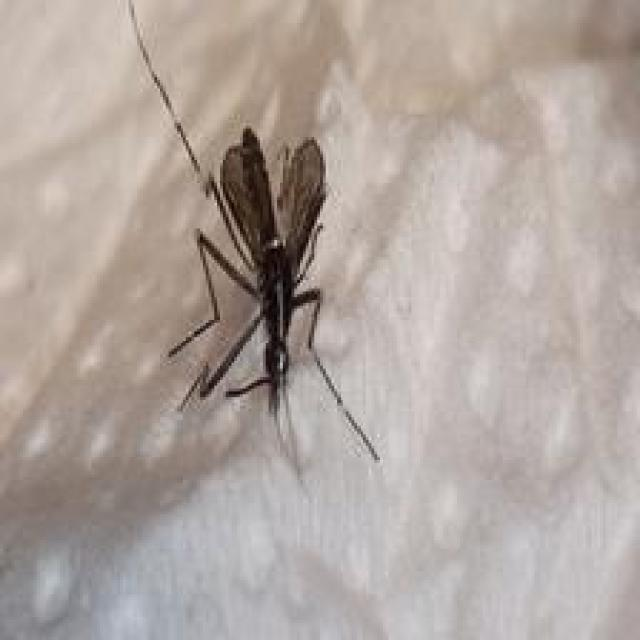Aedes albopictus: (125, 0, 382, 483)
